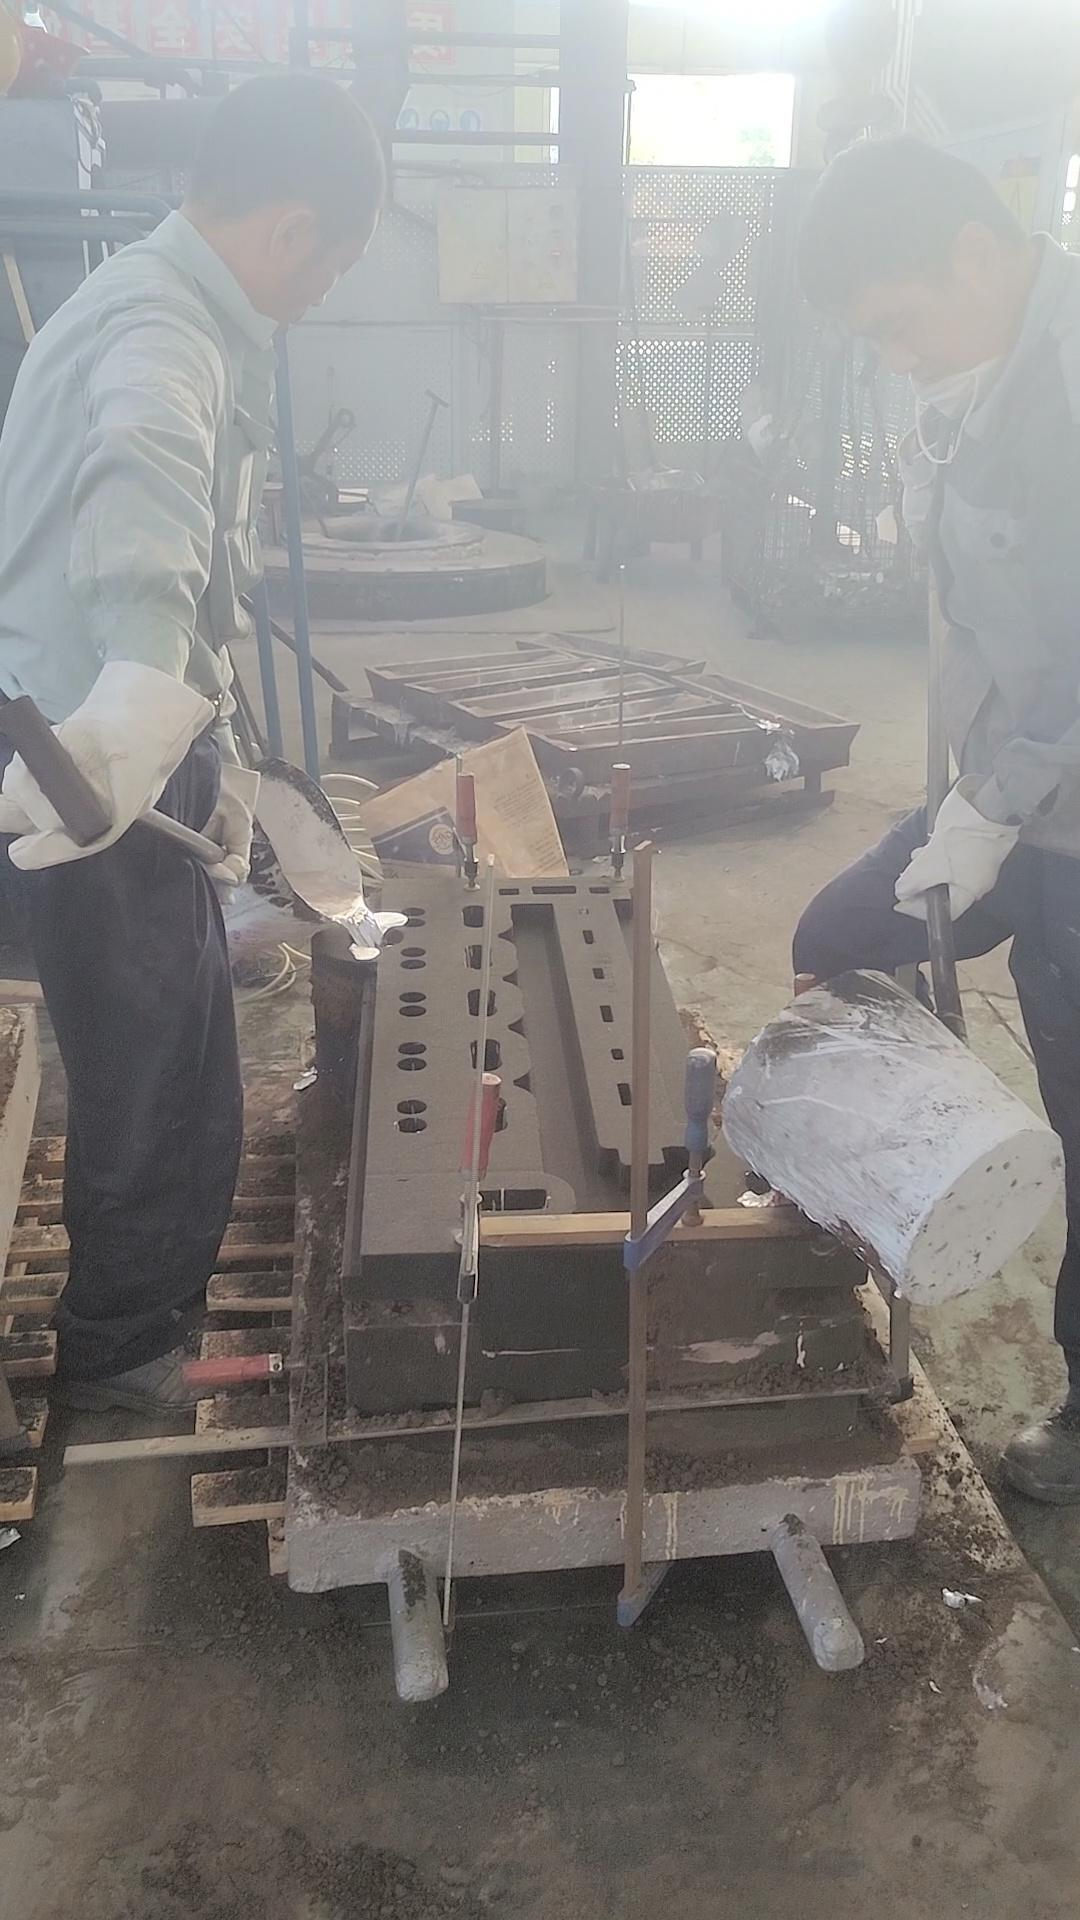pouring hole: (744, 1163, 822, 1209), (345, 924, 404, 948)
